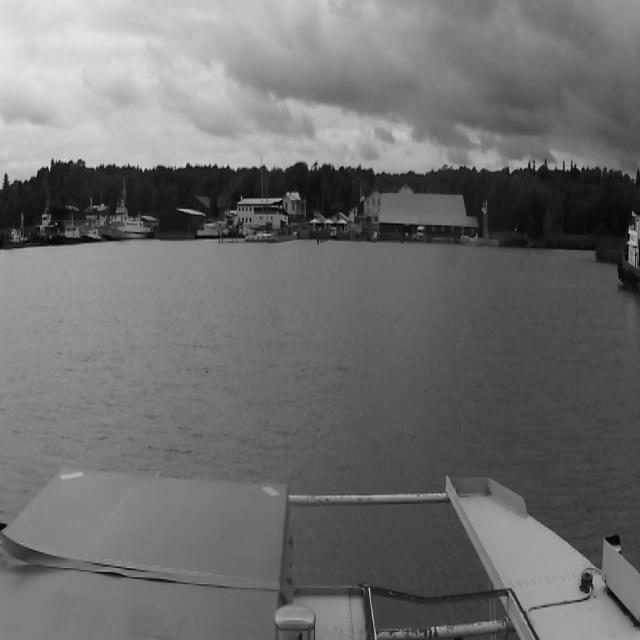ship: (242, 171, 276, 241), (415, 225, 425, 241)
